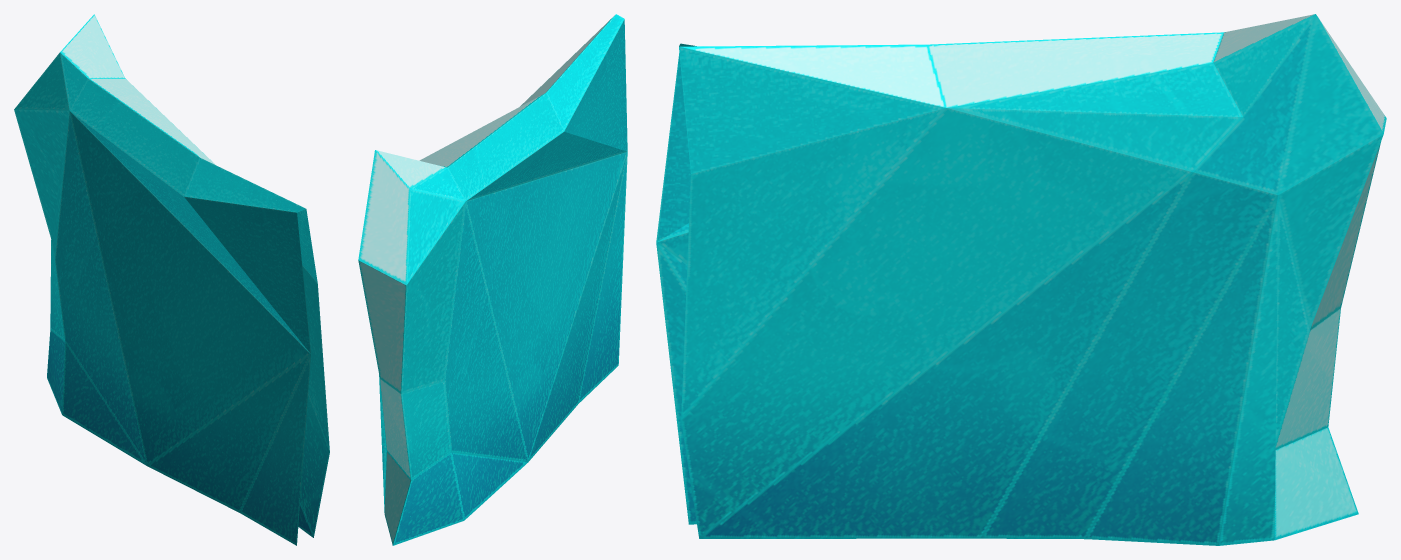
The model's file is wall01.fbx.
3 views of the same model, side by side, from view 1: azimuth 30°, elevation 25°; view 2: azimuth 150°, elevation 25°; view 3: azimuth 270°, elevation 25° (orthographic). The views are drawn at different scales.
Parts seen in each view (by area): view 1: obj_wall01.001; view 2: obj_wall01.001; view 3: obj_wall01.001.
Part boxes in pixels (x1,y1,x2,y2): obj_wall01.001: [14, 14, 329, 545]; obj_wall01.001: [358, 14, 627, 545]; obj_wall01.001: [656, 14, 1386, 545].
Bounding box in the file's own units: 18.69 × 85.37 × 108.
